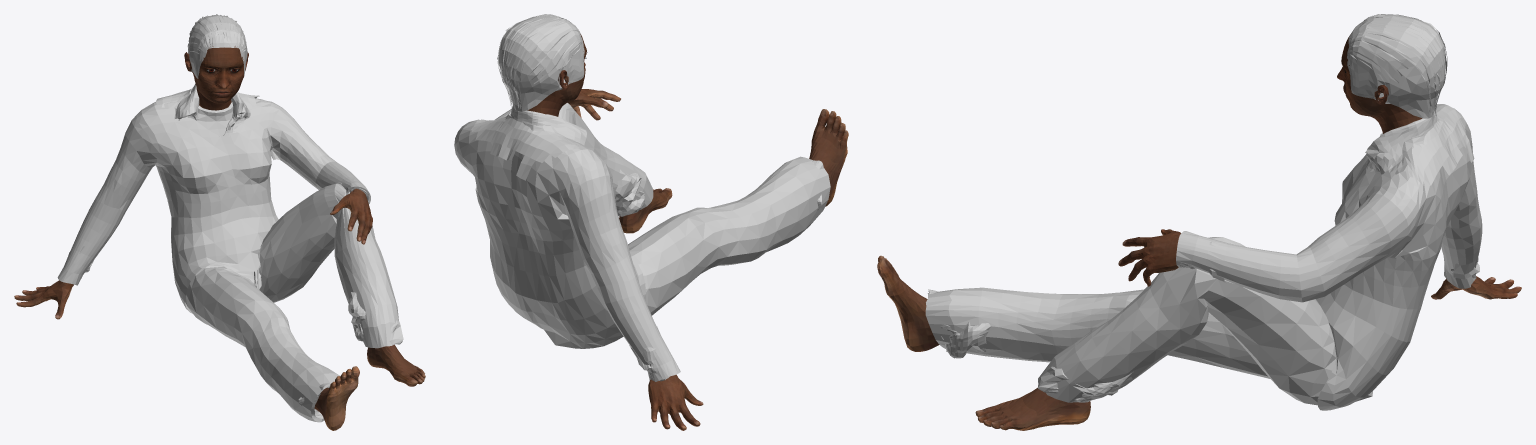
Rendered from human_02_sit.obj.
The picture shows the model from 3 angles, left to right: view 1: azimuth 30°, elevation 25°; view 2: azimuth 150°, elevation 25°; view 3: azimuth 270°, elevation 25°; orthographic projection. The views are drawn at different scales.
Visible parts, largest first — view 1: male_casualsuit02.obj, base.obj, male_casualsuit01.obj, short04.obj; view 2: male_casualsuit02.obj, base.obj, short04.obj, male_casualsuit01.obj; view 3: male_casualsuit02.obj, base.obj, short04.obj, male_casualsuit01.obj.
Part boxes in pixels (left/top/right/bottom): male_casualsuit02.obj: left=57, top=87, right=398, bottom=422; base.obj: left=14, top=46, right=425, bottom=430; male_casualsuit01.obj: left=68, top=84, right=403, bottom=418; short04.obj: left=187, top=14, right=247, bottom=78; male_casualsuit02.obj: left=454, top=103, right=830, bottom=381; base.obj: left=527, top=34, right=848, bottom=430; short04.obj: left=497, top=14, right=584, bottom=111; male_casualsuit01.obj: left=471, top=105, right=823, bottom=381; male_casualsuit02.obj: left=925, top=108, right=1482, bottom=410; base.obj: left=877, top=34, right=1521, bottom=430; short04.obj: left=1347, top=14, right=1447, bottom=118; male_casualsuit01.obj: left=928, top=104, right=1479, bottom=402.
Bounding box in the file's own units: 8.27 × 8.5 × 13.
